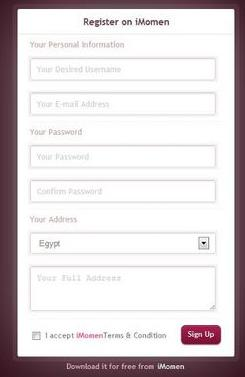button: (179, 324, 223, 346)
checkbox: (30, 329, 44, 341)
field: (28, 264, 217, 312), (28, 56, 219, 83), (28, 178, 218, 205), (28, 144, 218, 170), (29, 231, 218, 257), (29, 92, 216, 116)
field_with_label: (25, 39, 222, 85), (26, 127, 222, 171), (27, 216, 221, 259)
